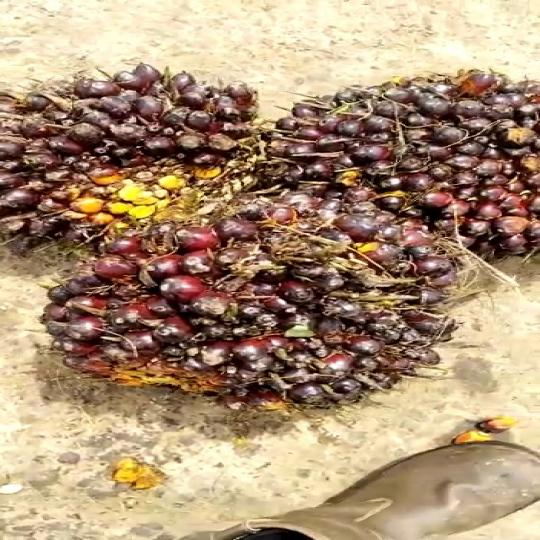kurang masak: (38, 196, 470, 422), (274, 50, 540, 255), (0, 64, 272, 241)
